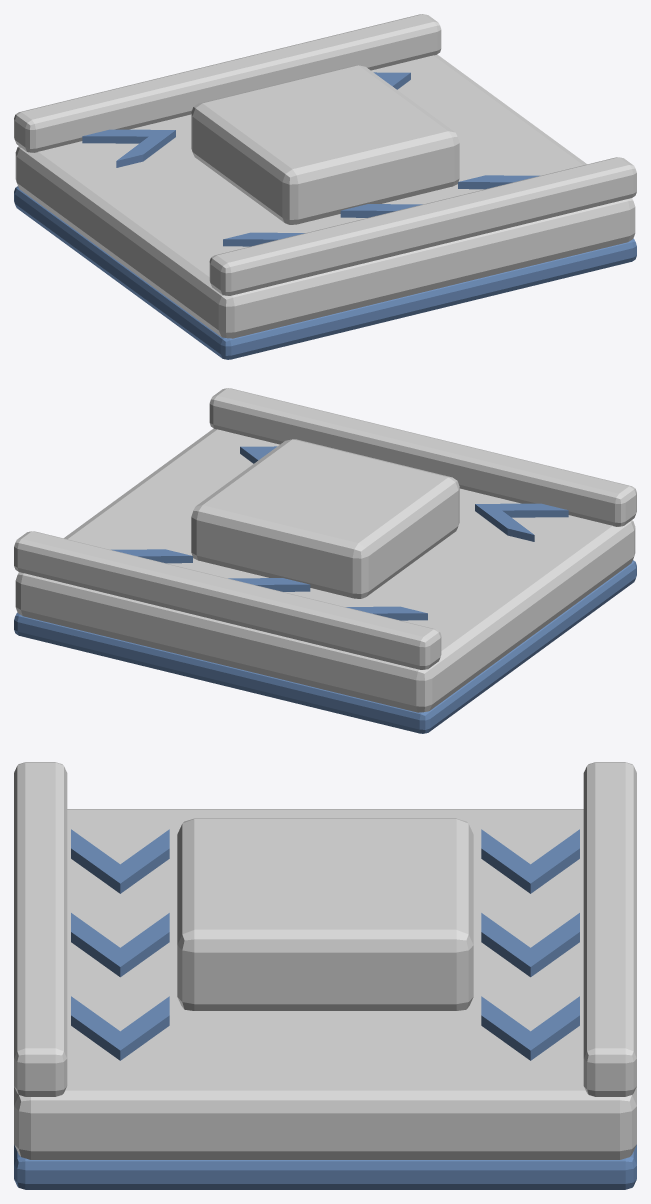
File: stream.glb
The picture shows the model from 3 angles, top to bottom: view 1: azimuth 30°, elevation 25°; view 2: azimuth 150°, elevation 25°; view 3: azimuth 270°, elevation 25°; orthographic projection. The views are drawn at different scales.
Visible parts, largest first — view 1: bed, island, bank.1, bank.-1, base, chevron.-1.0, chevron.1.2, chevron.1.0, chevron.1.1; view 2: bed, island, bank.-1, bank.1, base, chevron.1.0, chevron.-1.2, chevron.-1.0, chevron.-1.1; view 3: bed, island, base, bank.1, bank.-1, chevron.1.1, chevron.-1.1, chevron.1.2, chevron.-1.2, chevron.1.0, chevron.-1.0.
Part boxes in pixels (left/top/right/bottom): bed: left=15, top=54, right=635, bottom=338; island: left=191, top=65, right=459, bottom=224; bank.1: left=209, top=157, right=636, bottom=295; bank.-1: left=14, top=14, right=441, bottom=152; base: left=14, top=186, right=636, bottom=359; chevron.-1.0: left=82, top=129, right=175, bottom=167; chevron.1.2: left=458, top=175, right=539, bottom=189; chevron.1.0: left=223, top=232, right=304, bottom=246; chevron.1.1: left=340, top=204, right=422, bottom=217; bed: left=15, top=428, right=635, bottom=712; island: left=191, top=439, right=459, bottom=598; bank.-1: left=14, top=531, right=441, bottom=669; bank.1: left=209, top=388, right=636, bottom=526; base: left=14, top=560, right=636, bottom=733; chevron.1.0: left=475, top=503, right=568, bottom=541; chevron.-1.2: left=111, top=549, right=192, bottom=563; chevron.-1.0: left=346, top=606, right=427, bottom=620; chevron.-1.1: left=228, top=578, right=310, bottom=591; bed: left=14, top=809, right=636, bottom=1159; island: left=177, top=818, right=473, bottom=1010; base: left=14, top=1144, right=636, bottom=1189; bank.1: left=14, top=762, right=67, bottom=1096; bank.-1: left=583, top=762, right=636, bottom=1096; chevron.1.1: left=71, top=913, right=169, bottom=977; chevron.-1.1: left=481, top=913, right=579, bottom=977; chevron.1.2: left=71, top=996, right=169, bottom=1060; chevron.-1.2: left=481, top=996, right=579, bottom=1060; chevron.1.0: left=71, top=829, right=169, bottom=893; chevron.-1.0: left=481, top=829, right=579, bottom=893.
Bounding box in the file's own units: 1.84 × 0.5 × 1.64.
